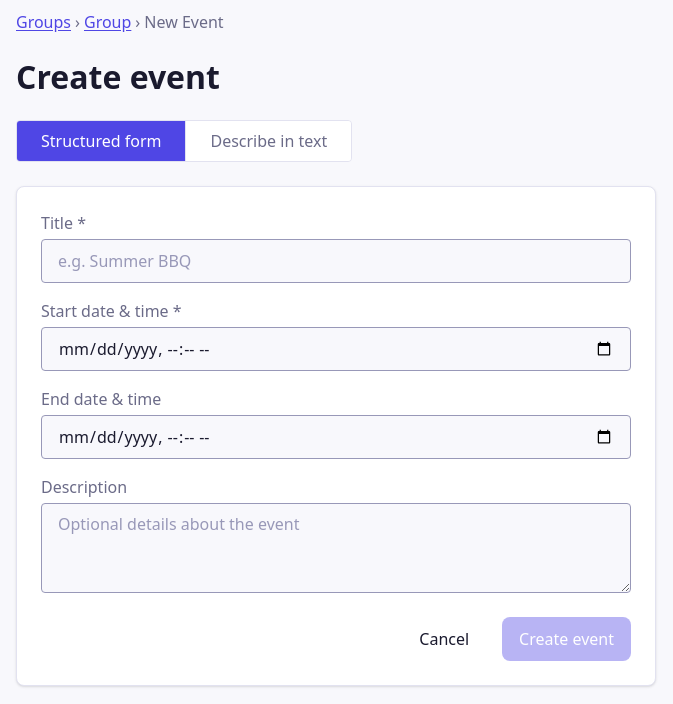
Test: EventCreate › switches to capture mode when "Describe in text" tab is clicked
Click the tab "Describe in text" at [269, 141], box [186, 121, 351, 161]
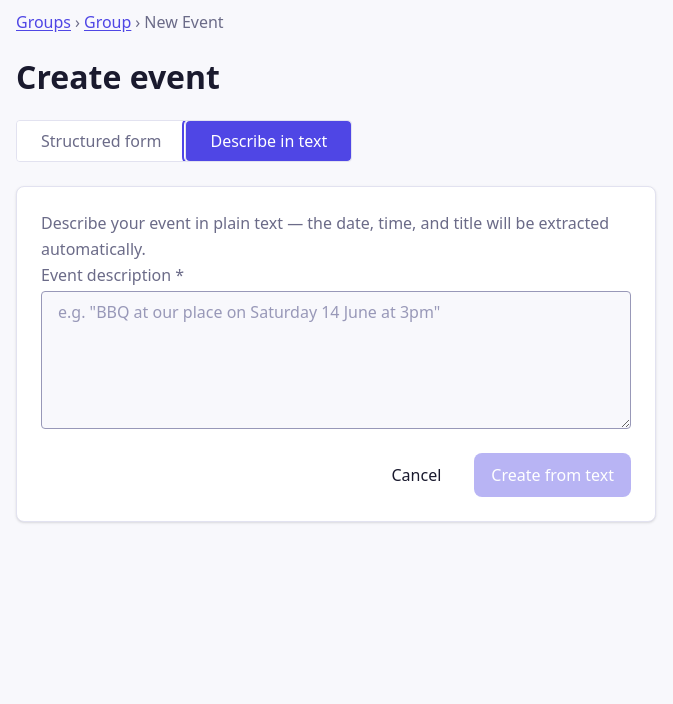
Check: the text box labelled "Event description *" is shown, box [41, 291, 631, 429]
